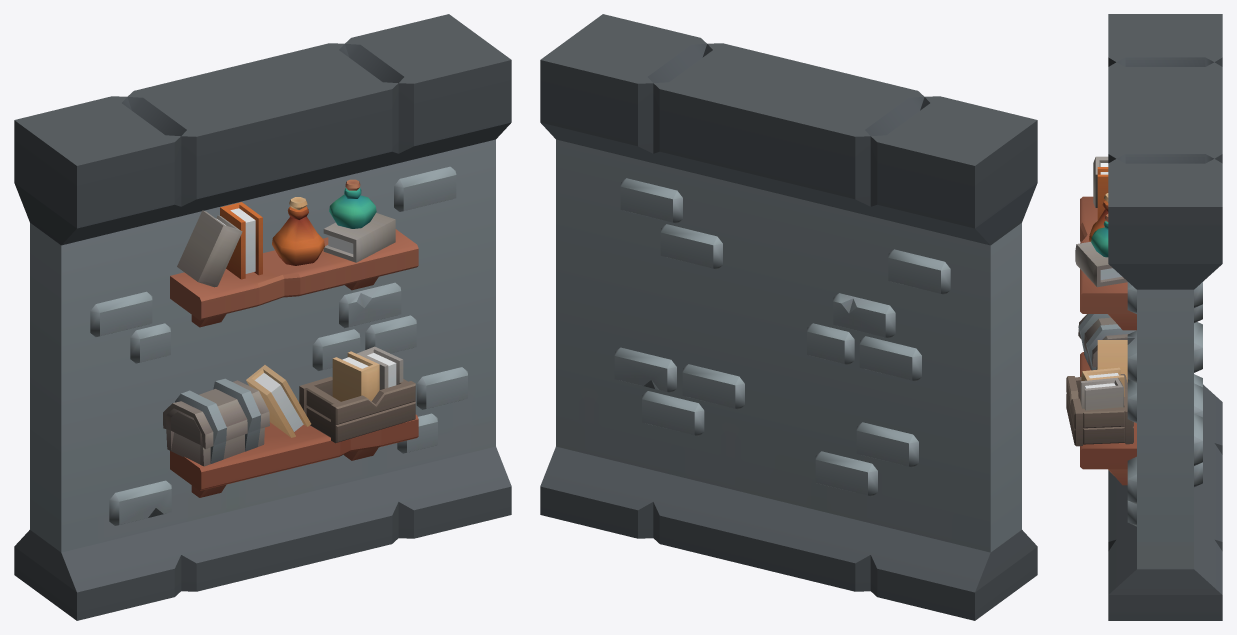
File: wall-shelves-gltf.glb
The picture shows the model from 3 angles, left to right: view 1: azimuth 30°, elevation 25°; view 2: azimuth 150°, elevation 25°; view 3: azimuth 270°, elevation 25°; orthographic projection. The views are drawn at different scales.
Visible parts, largest first — view 1: wall_shelves; view 2: wall_shelves; view 3: wall_shelves.
Part boxes in pixels (bbox=[...]): wall_shelves: bbox=[14, 14, 511, 620]; wall_shelves: bbox=[540, 14, 1037, 620]; wall_shelves: bbox=[1066, 14, 1222, 620].
Bounding box in the file's own units: 4 × 4 × 1.37.
Materials: 1 (1 with a texture image).
